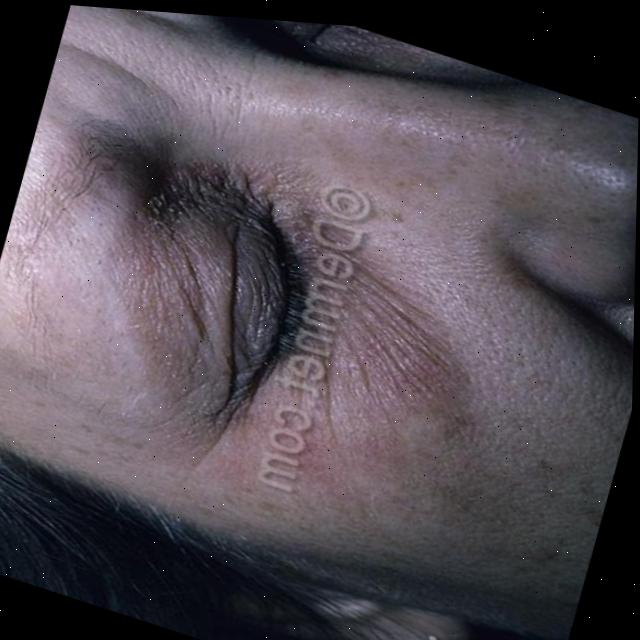Eczema: (117, 142, 500, 526)
